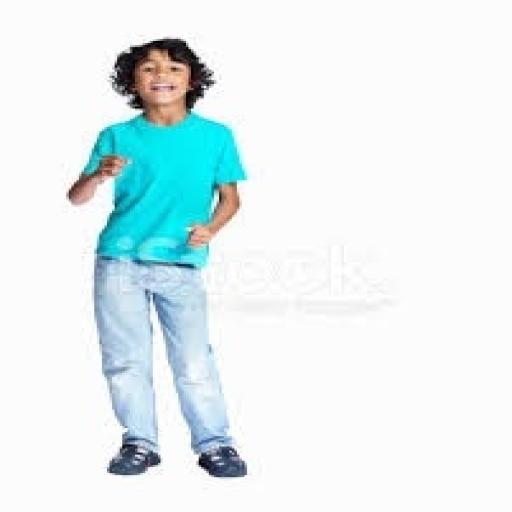dancing: (64, 35, 252, 481)
